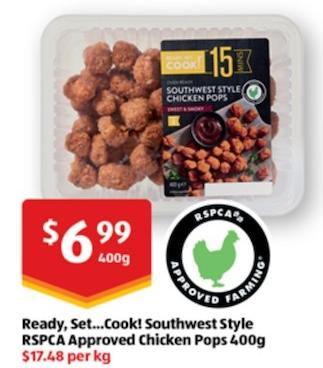description_block: (14, 312, 272, 350)
price_main: (15, 197, 156, 299)
product_image_block: (37, 10, 313, 218)
unit_price_block: (13, 344, 119, 368)
